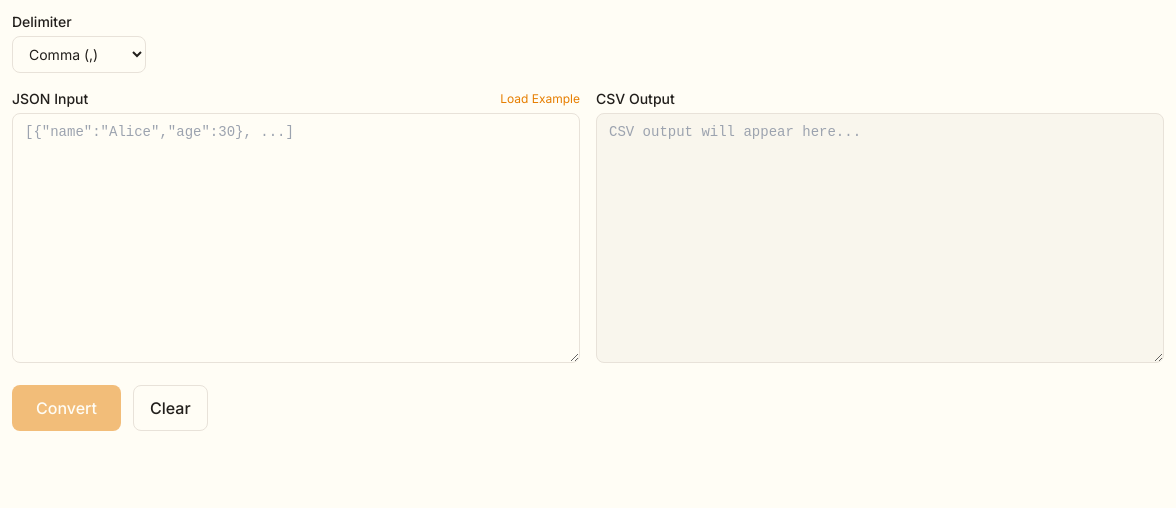
it: JsonToCsv › shows error for invalid JSON
Type "not json" into the text box named "JSON input" at (296, 238), box [12, 113, 580, 363]
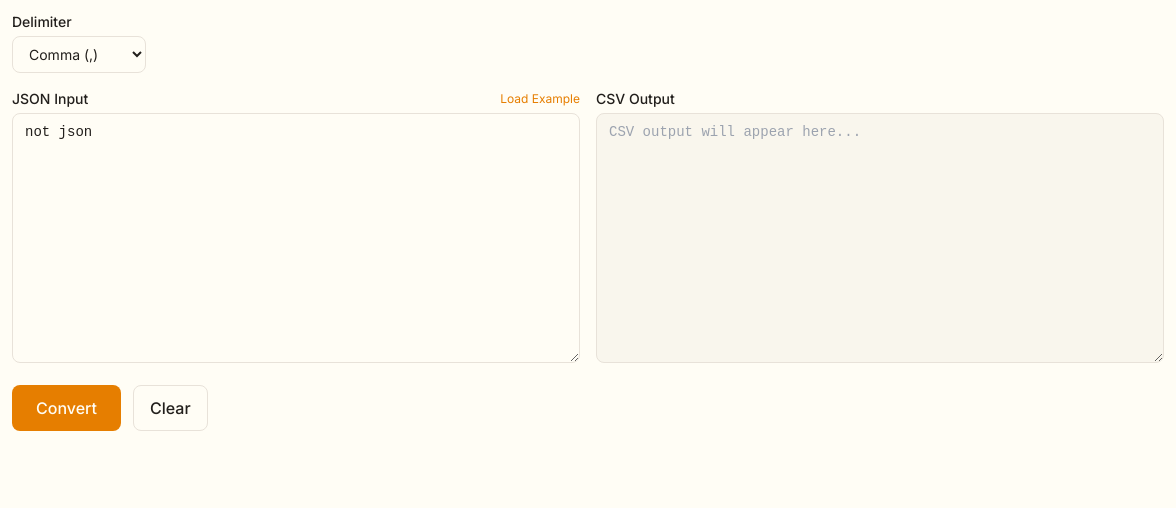
Click the button "Convert" at (66, 408), box [12, 385, 121, 431]
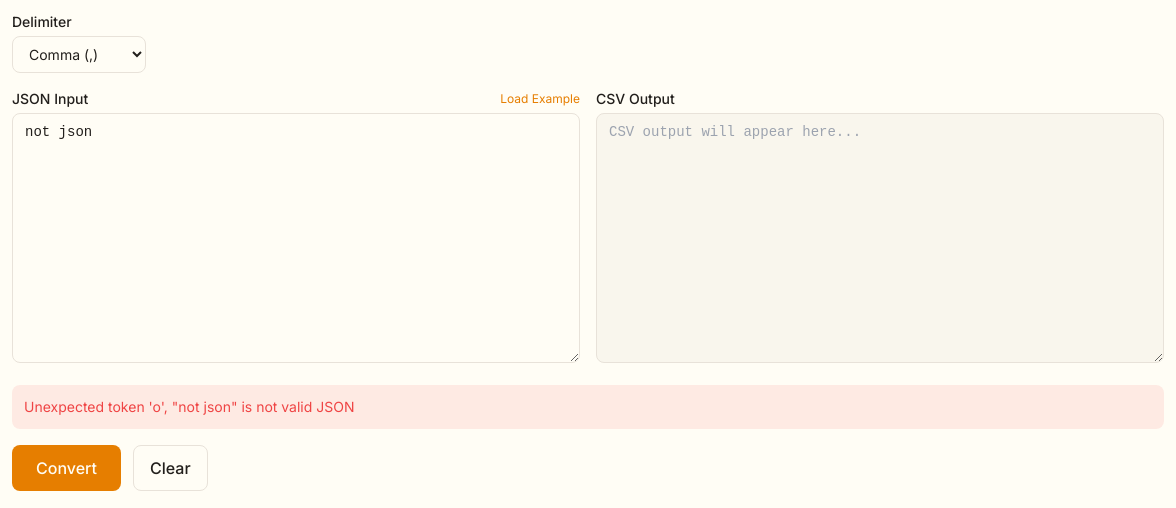
Expected: the text "Unexpected token 'o', \"not json\" is not valid JSON" is shown, [12, 385, 1164, 429]
